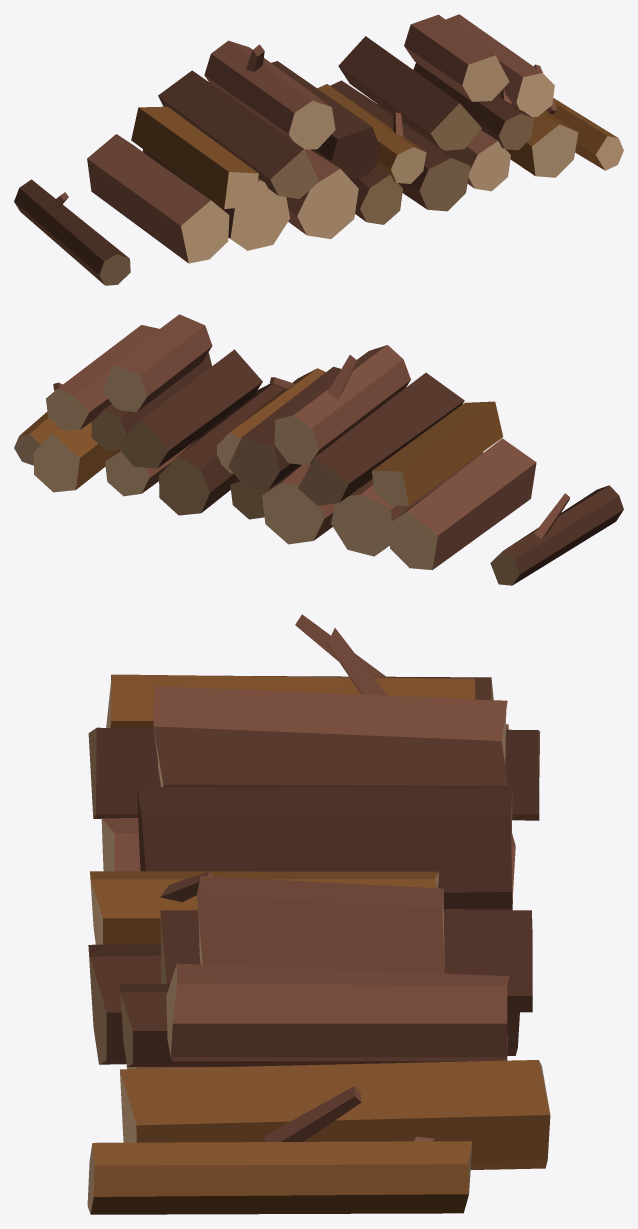
Rendered from Logs 2.glb.
3 renders of one model, top to bottom at view 1: azimuth 30°, elevation 25°; view 2: azimuth 150°, elevation 25°; view 3: azimuth 270°, elevation 25°, orthographic. The views are drawn at different scales.
Parts seen in each view (by area): view 1: Logs 2; view 2: Logs 2; view 3: Logs 2.
Boxes of the visible parts, box(x1,y1,x2,y2) form: Logs 2: box(14, 14, 623, 285); Logs 2: box(14, 314, 623, 585); Logs 2: box(87, 614, 550, 1214).
Size of what is drawn, in the model's own units: 2.14 by 0.6205 by 0.8271.
1 material, 1 textured.
